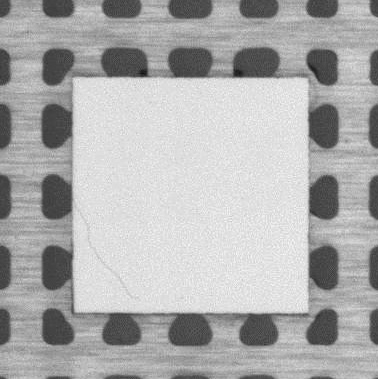DIE_CRACK: (74, 201, 134, 299)
